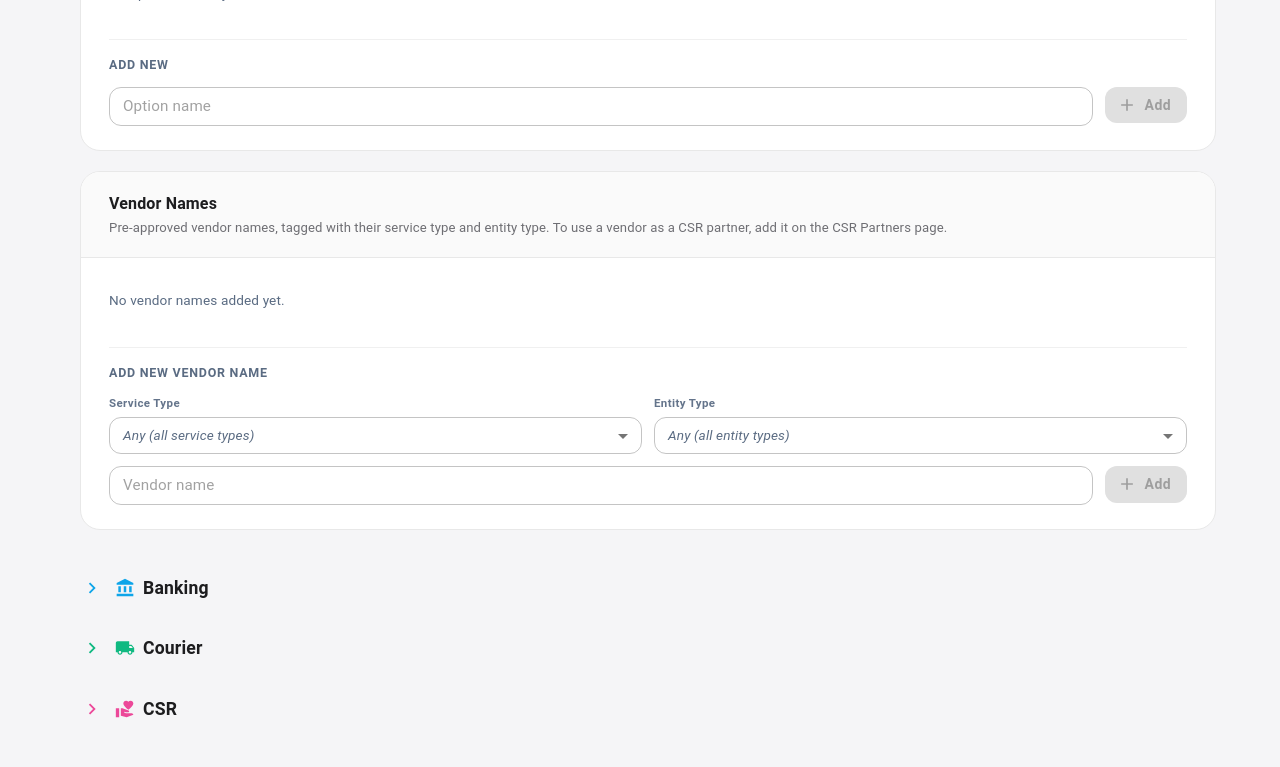
Test: an add that saved but could not be re-read says so instead of looking lost
(page scrolled)
Click the text "Banking" at (176, 588), box 143,575 -> 209,601
(page scrolled)
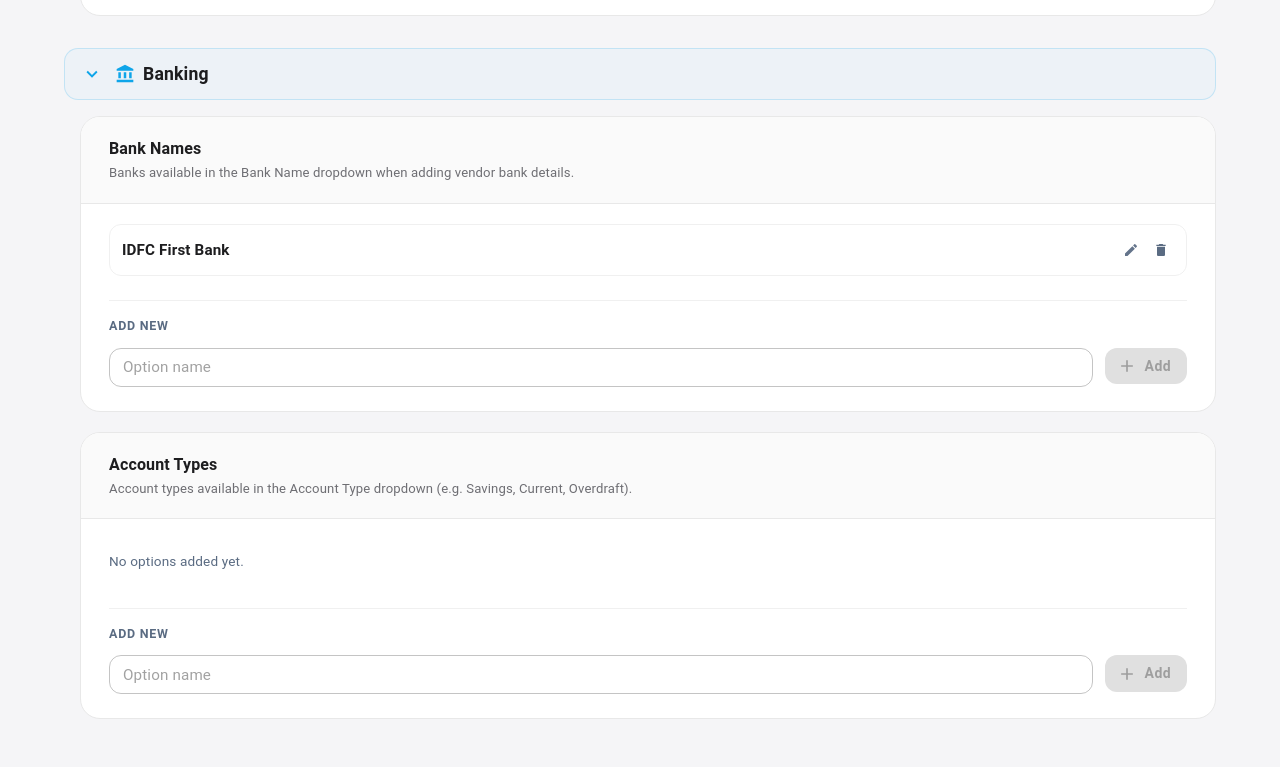
Expected: the text "IDFC First Bank" is shown, 122,238 -> 230,261
Type "Axis Bank" into the field with placeholder "Option name" below "IDFC First Bank" at (601, 367), box 109,348 -> 1093,386
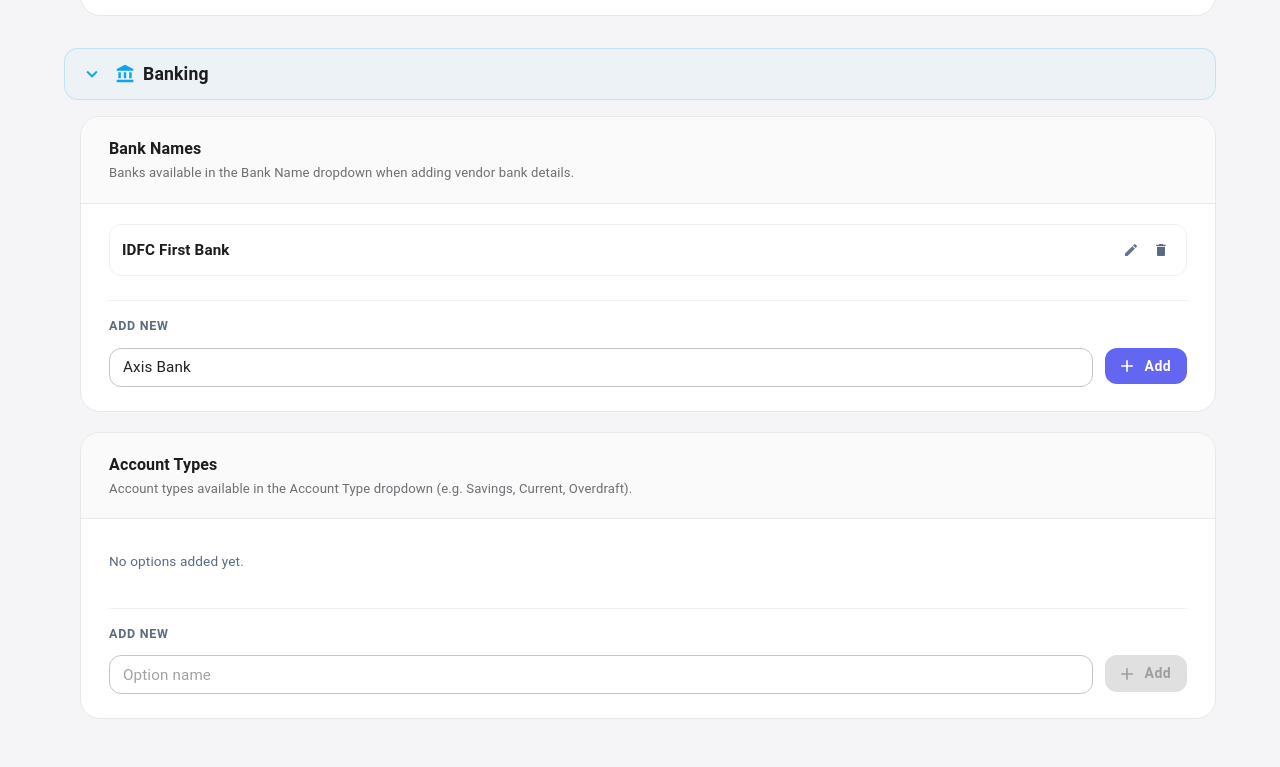
Press Enter in the field with placeholder "Option name", box 109,348 -> 1093,386
(page scrolled)
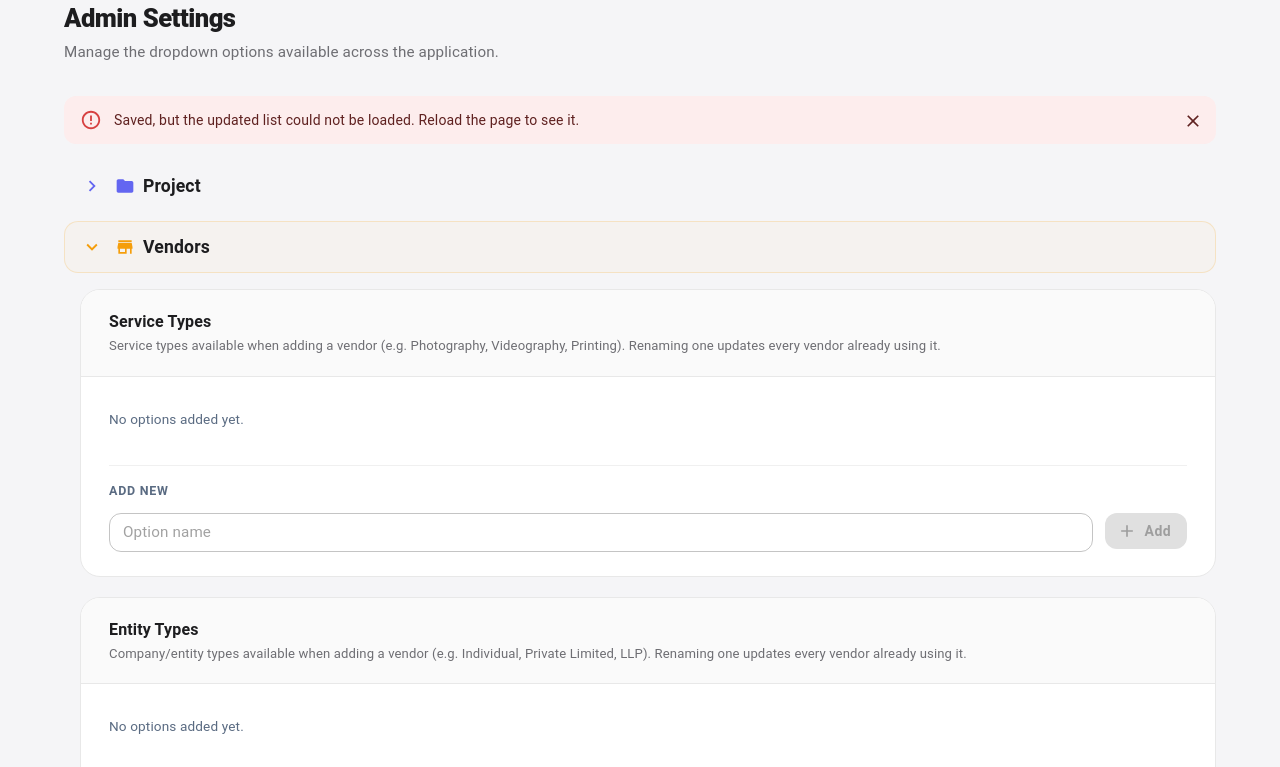
Expected: the text "Saved, but the updated list could not be loaded" is shown, 114,112 -> 579,128
